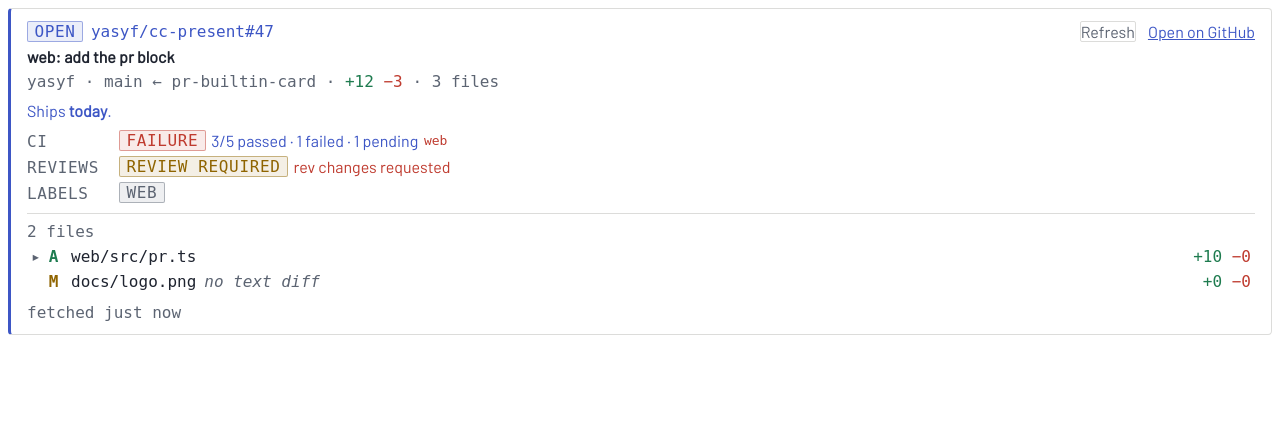
Test: PRView › expands a file to its diff and leaves a patchless file closed
Click the button "▸ A web/src/pr.ts +10 −0" at (134, 257), box [27,245,1255,268]
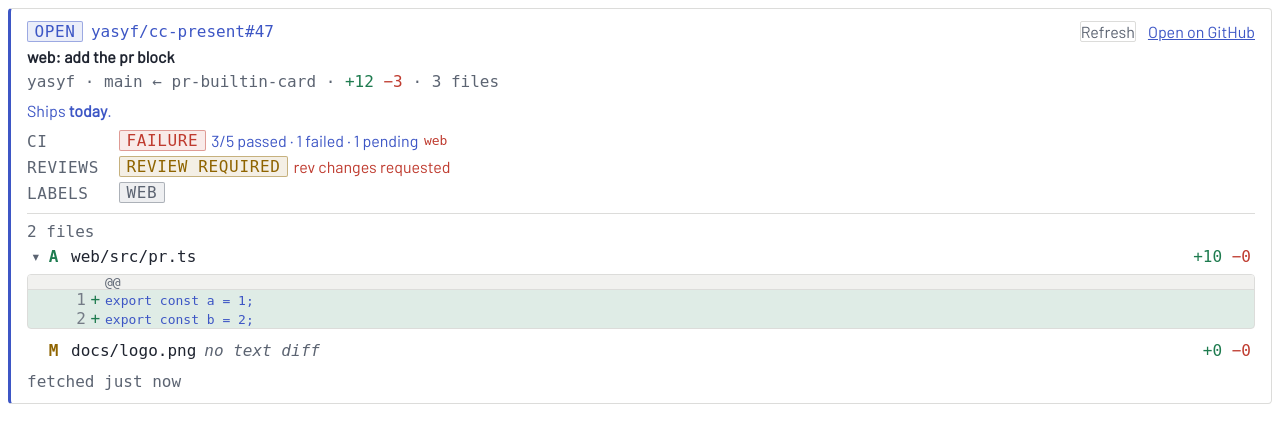
Expected: the button "M docs/logo.png no text diff +0 −0" is disabled, [27,339,1255,362]
Result: the button "▾ A web/src/pr.ts +10 −0" is expanded at [27,245,1255,268]
